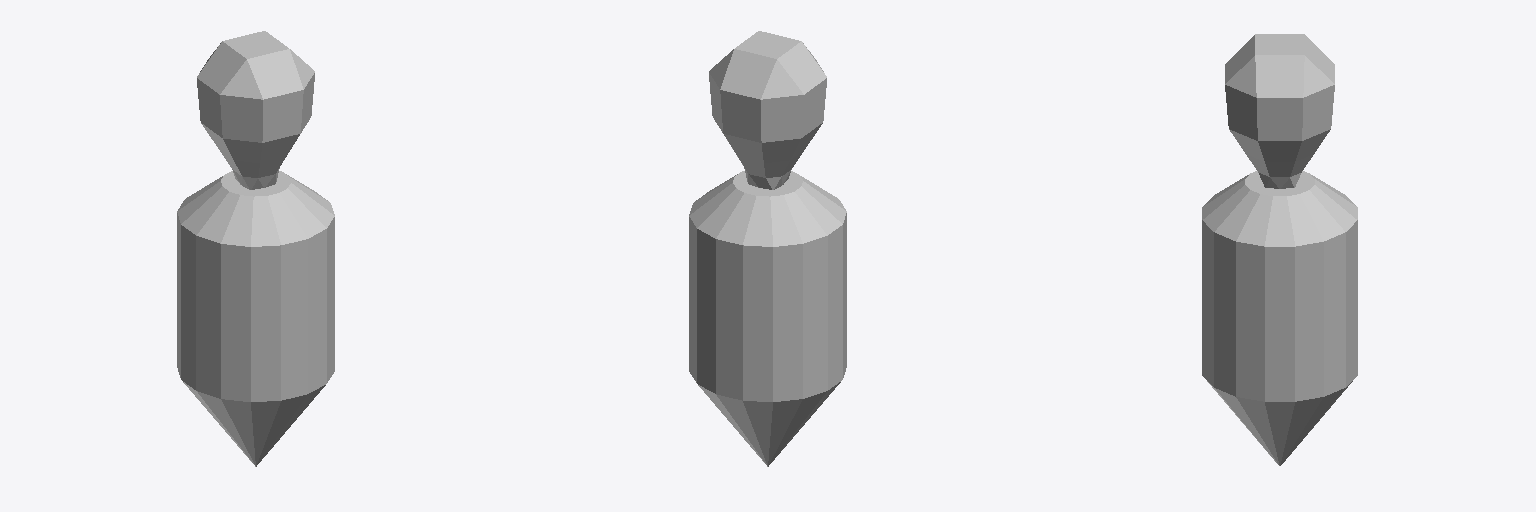
File: receiver.obj
3 views of the same model, side by side, from view 1: azimuth 30°, elevation 25°; view 2: azimuth 150°, elevation 25°; view 3: azimuth 270°, elevation 25° (orthographic).
Parts seen in each view (by area): view 1: Cube_Cube.001; view 2: Cube_Cube.001; view 3: Cube_Cube.001.
Part boxes in pixels (x1,y1,x2,y2): Cube_Cube.001: (177,31,334,466); Cube_Cube.001: (689,31,846,466); Cube_Cube.001: (1202,34,1357,465).
Size of the model in its own units: 0.5 by 1.5 by 0.5.